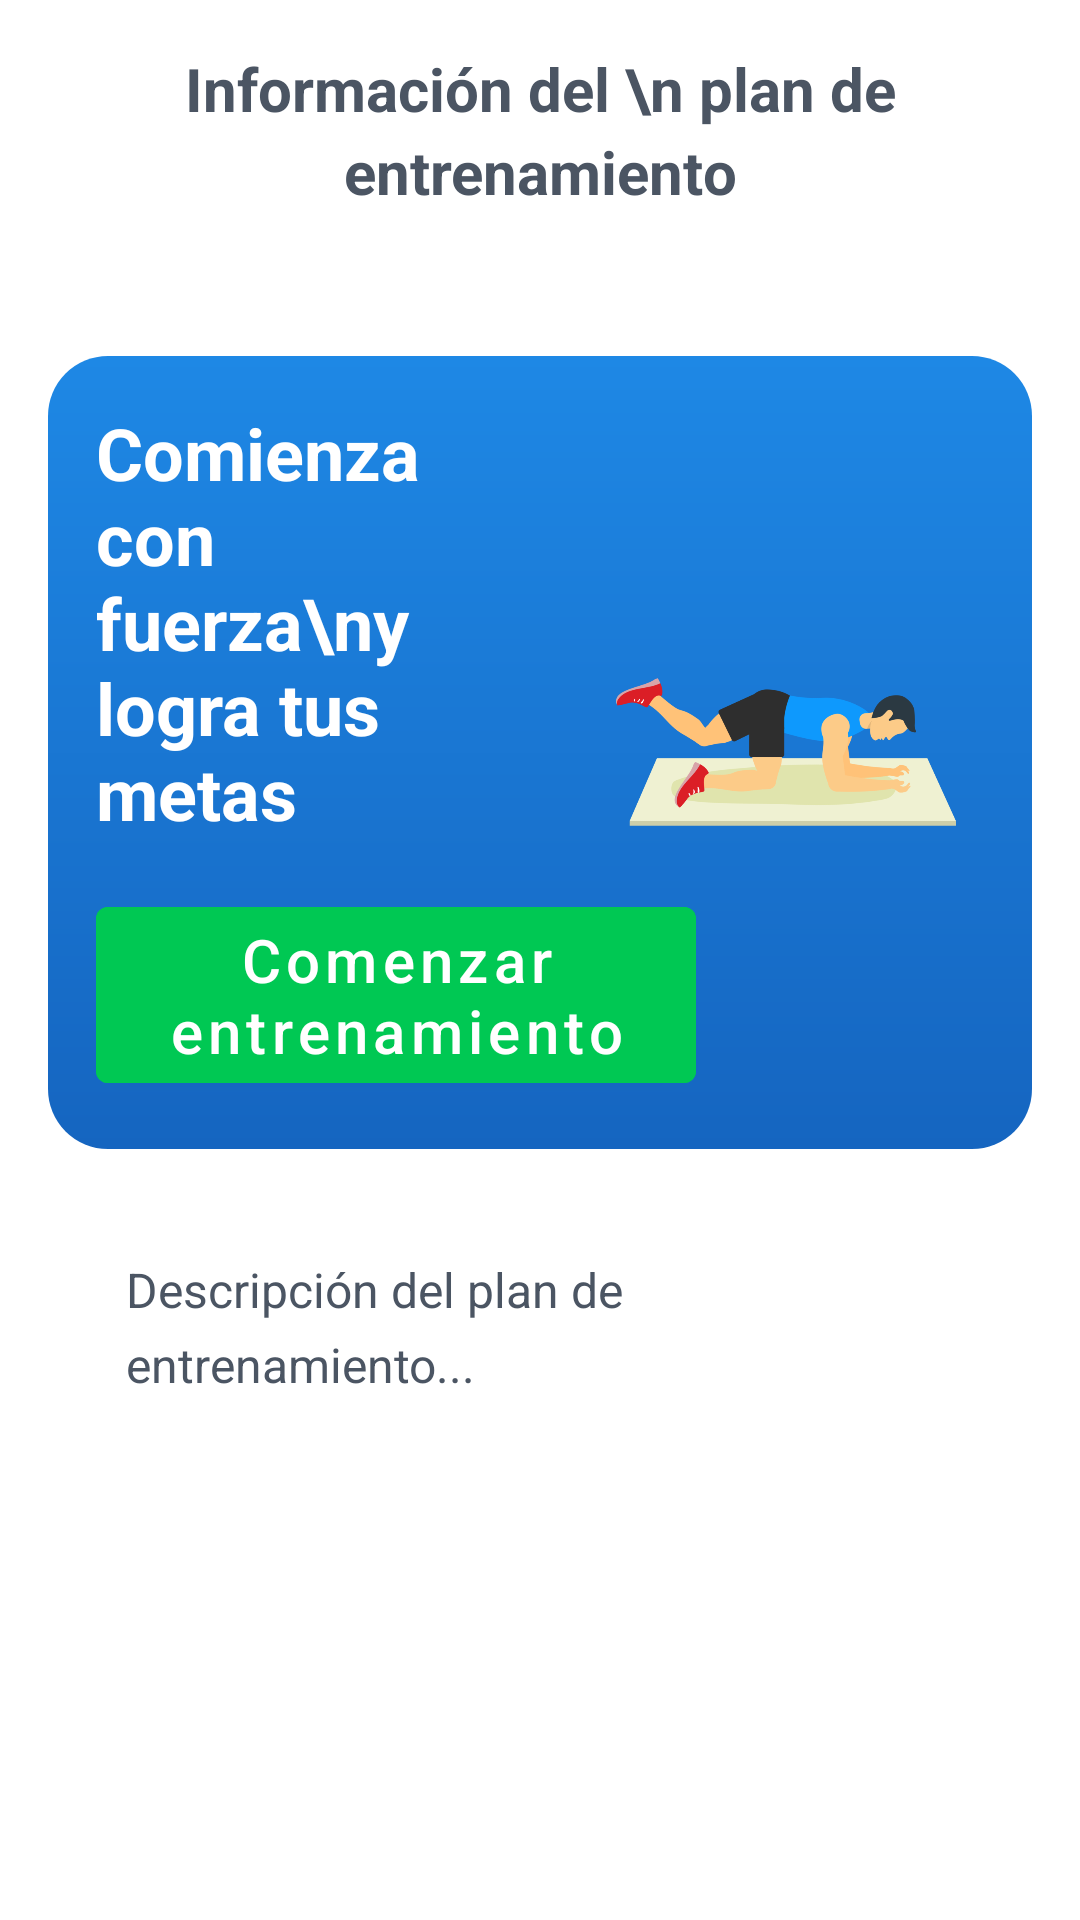

Named icons in this screenshot (1080*1920) and their centers, (x,y):
plancha: (786,752)
